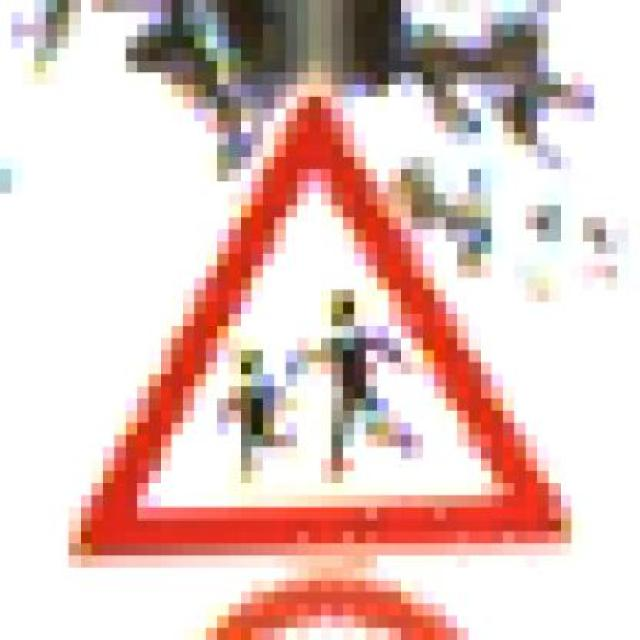Beware of children: (69, 60, 572, 568)
